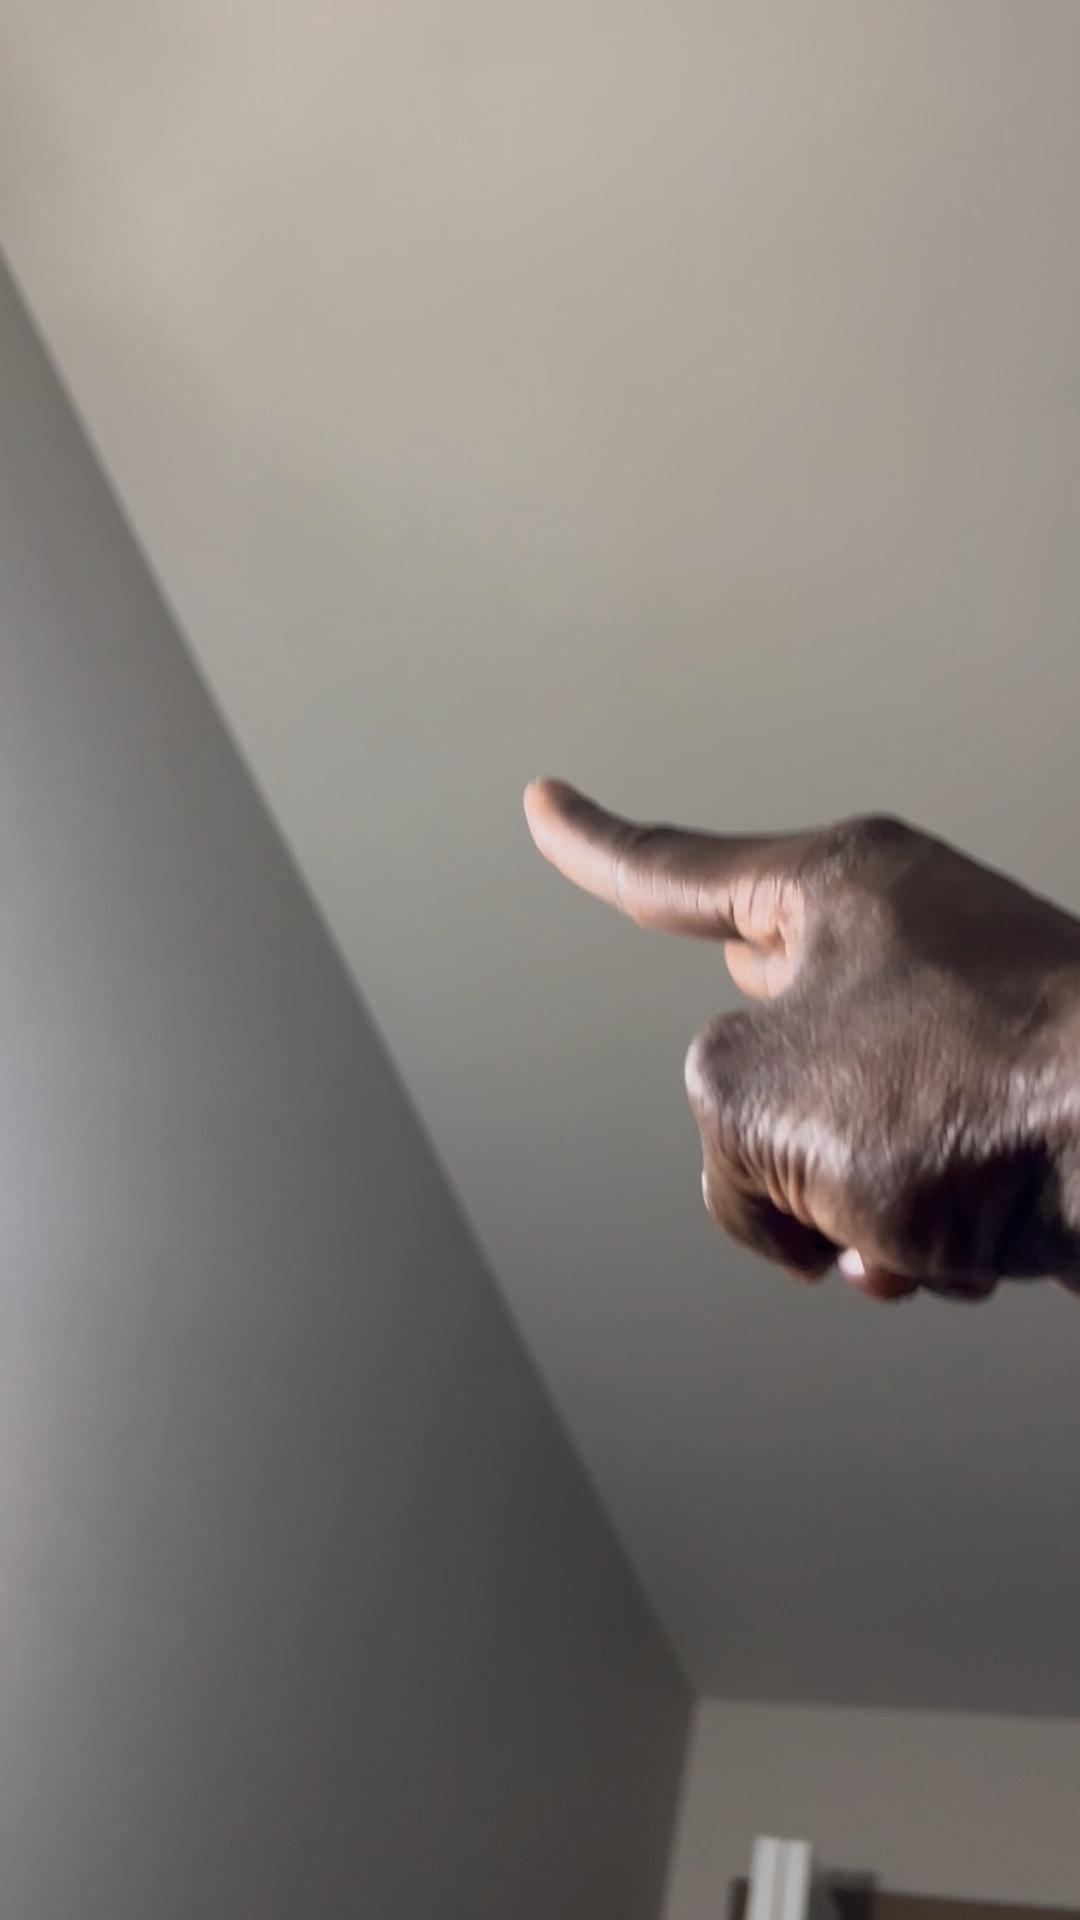Scissors: (520, 765, 1080, 1295)
